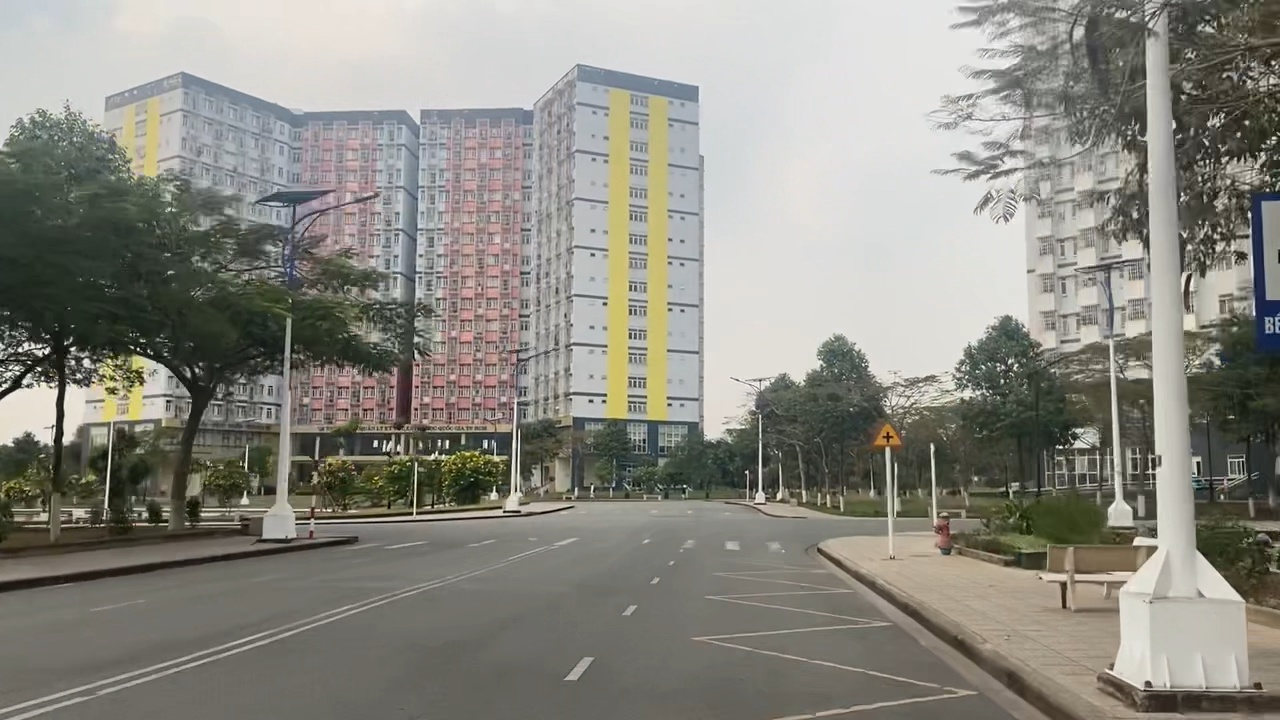giao_nhau_chu_thap: (869, 418, 905, 449)
